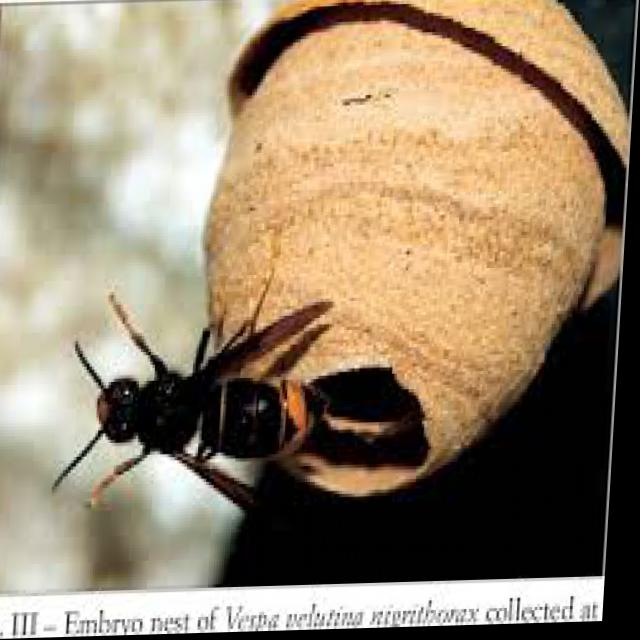Vespa Velutina: (50, 279, 347, 541)
